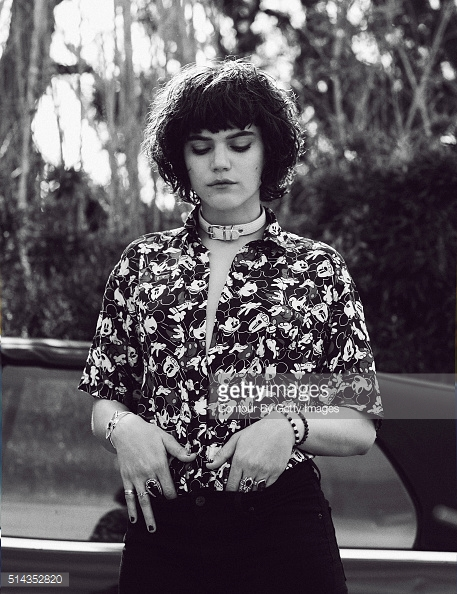em pe: (81, 74, 389, 571)
